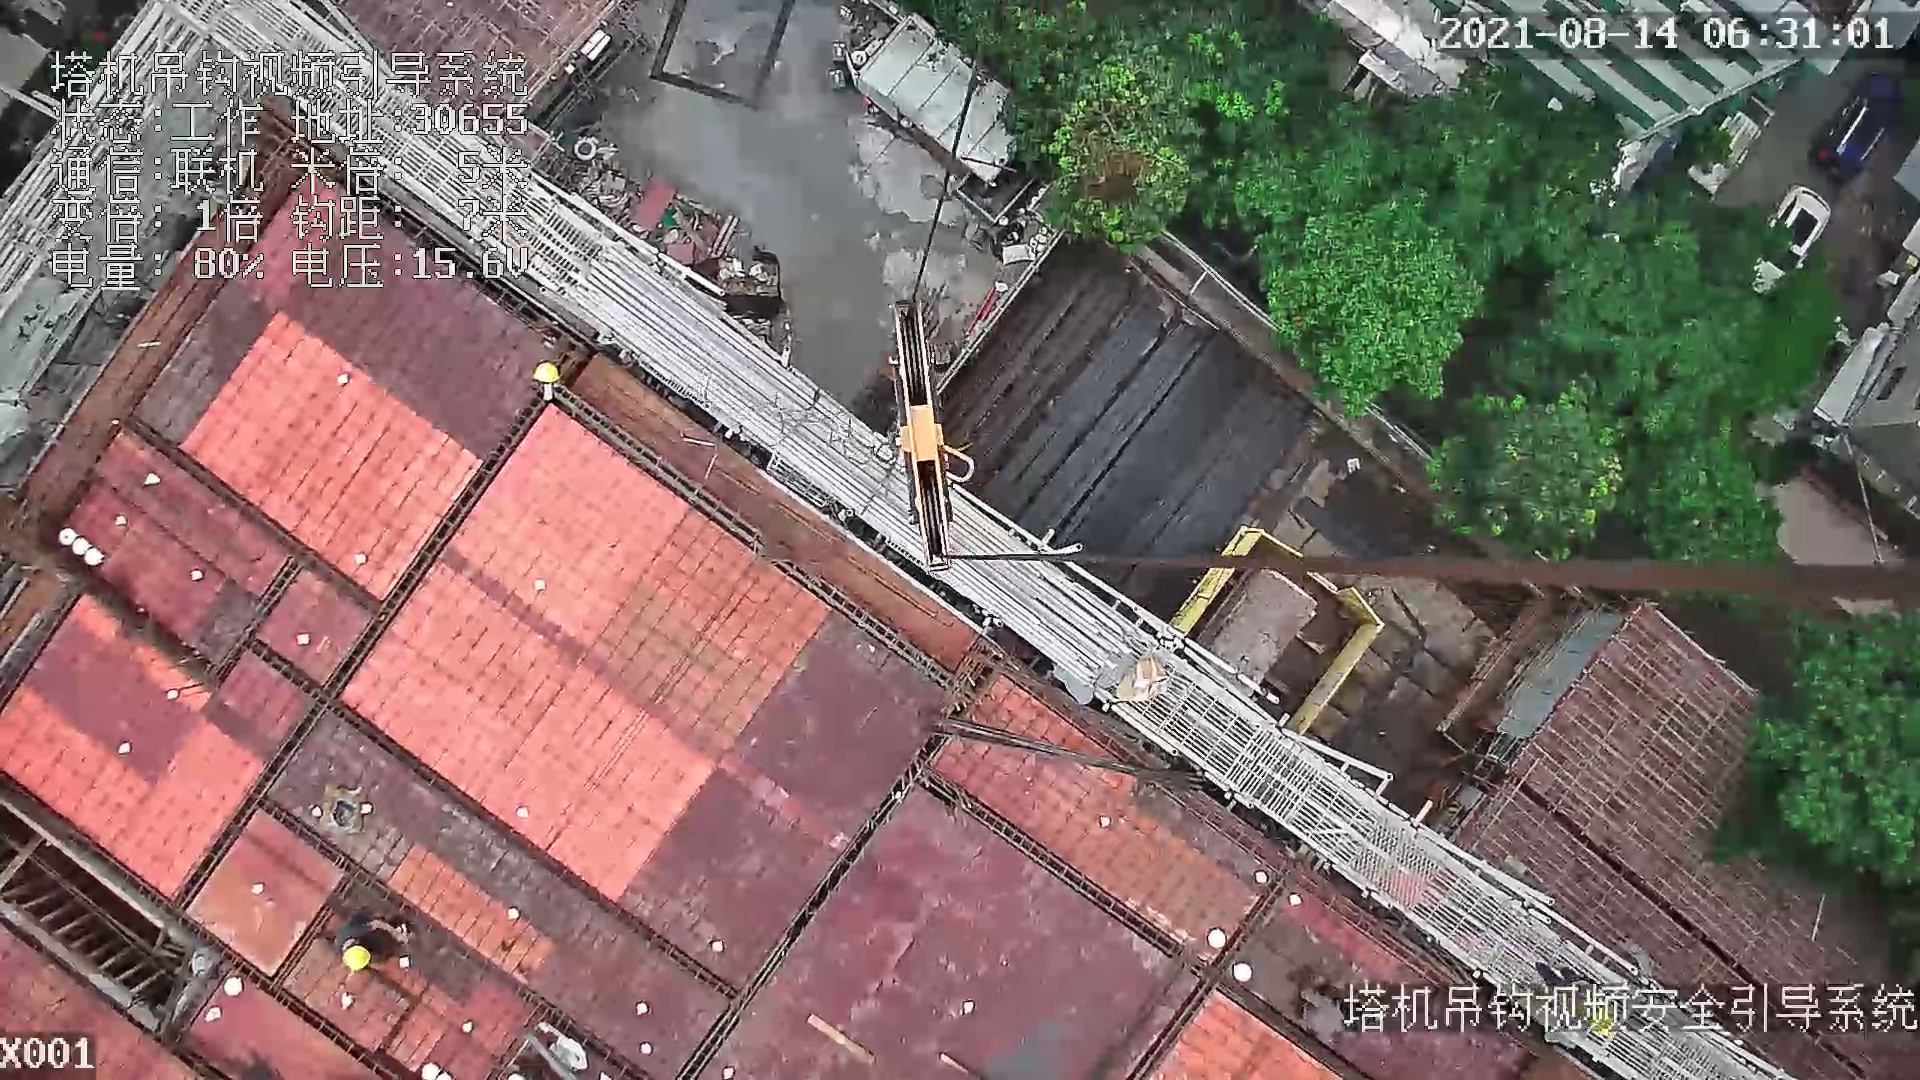helmet: (342, 943, 373, 974), (531, 359, 563, 385)
hook: (873, 299, 978, 572)
person: (1531, 962, 1629, 1042), (326, 913, 419, 980)
